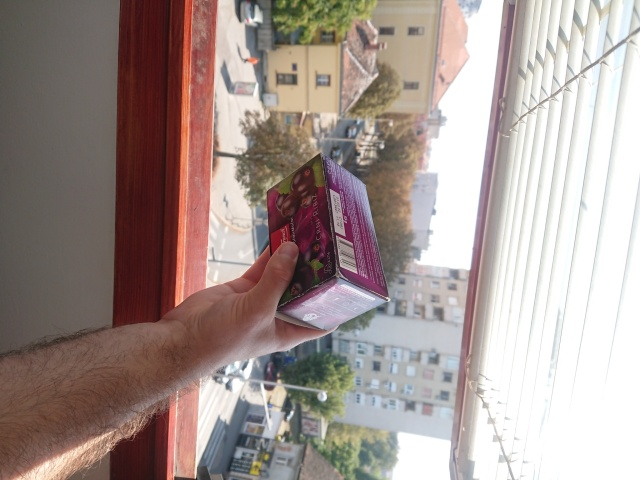Franck Black Currant Tea 60g: (264, 150, 393, 333)
